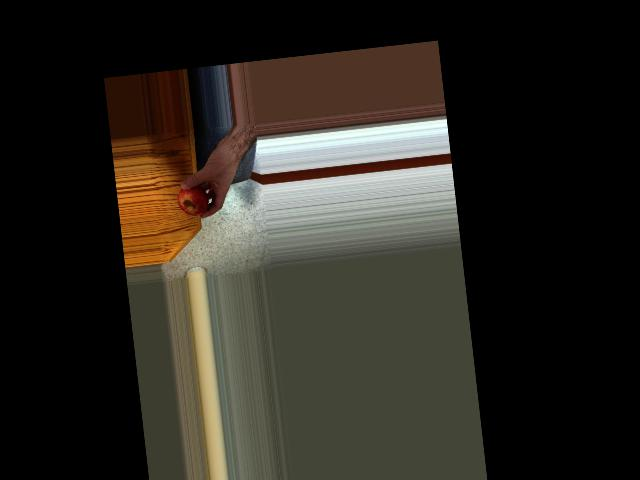apple: (174, 179, 212, 218)
